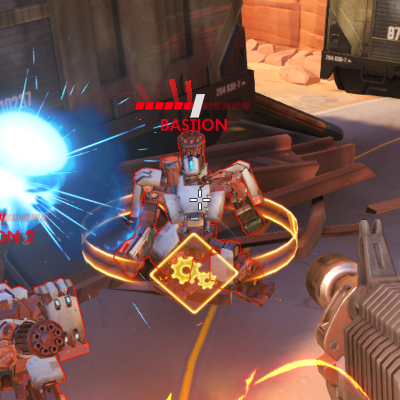hpbar: (135, 101, 251, 111), (1, 213, 51, 222)
